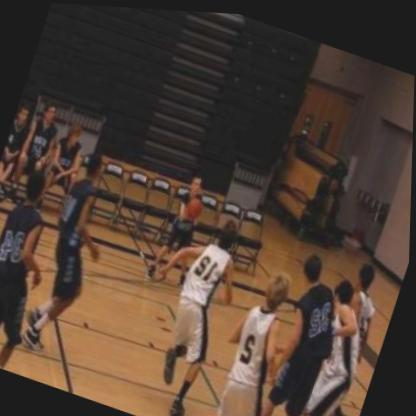basketball: (182, 194, 205, 221)
